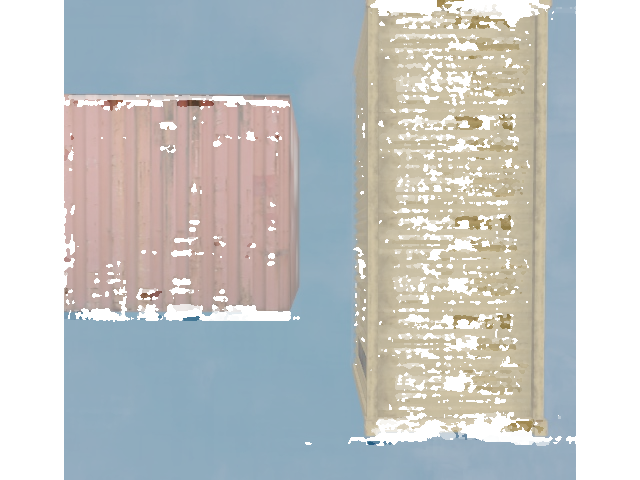container3: (345, 0, 562, 444)
container4: (0, 86, 308, 320)
